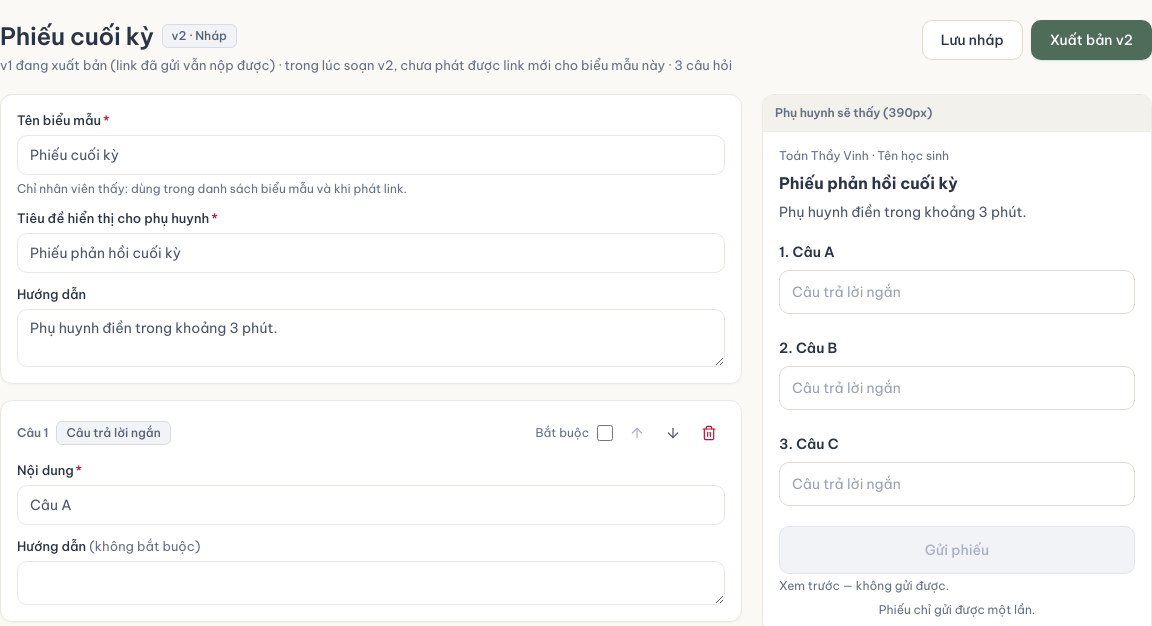
Test: CoachingFormBuilder questions › moves cards up and down and deletes one; the preview and focus follow
Check: the button named "Đưa câu 1 lên" is disabled, box x1=621 y1=417 x2=653 y2=449
Click the button named "Đưa câu 1 xuống": (673, 433) x1=657 y1=417 x2=689 y2=449
(page scrolled)
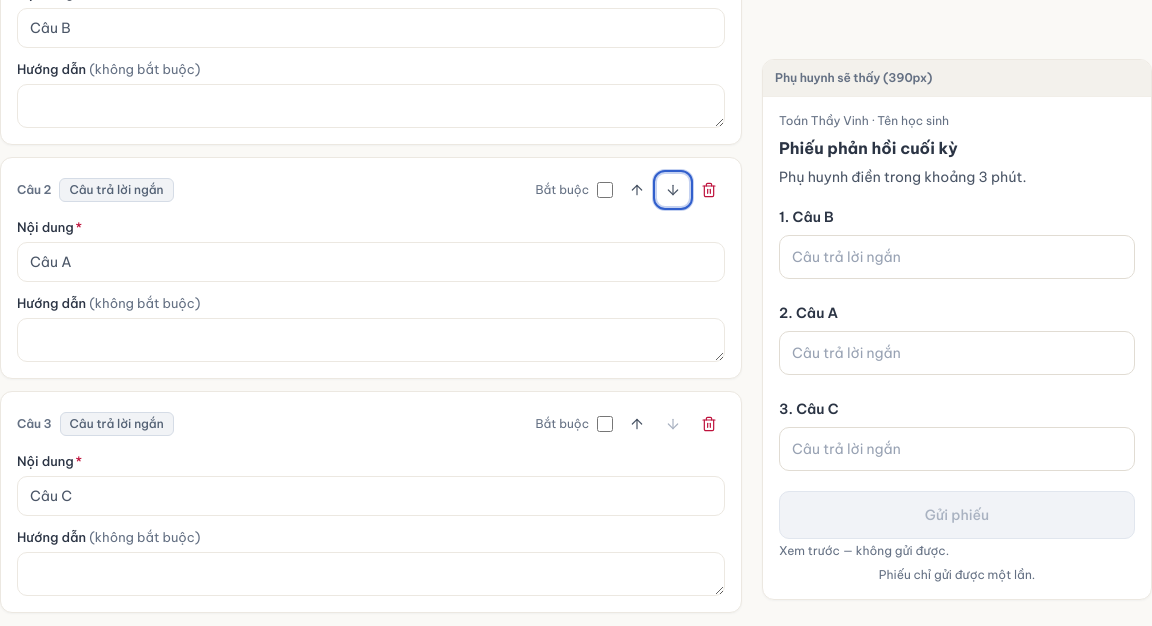
Check: the element "1. Câu B" is shown, box x1=779 y1=207 x2=1135 y2=279
Check: the element "2. Câu A" is shown, box x1=779 y1=303 x2=1135 y2=375
Click the button named "Đưa câu 3 lên": (637, 424) x1=621 y1=408 x2=653 y2=440
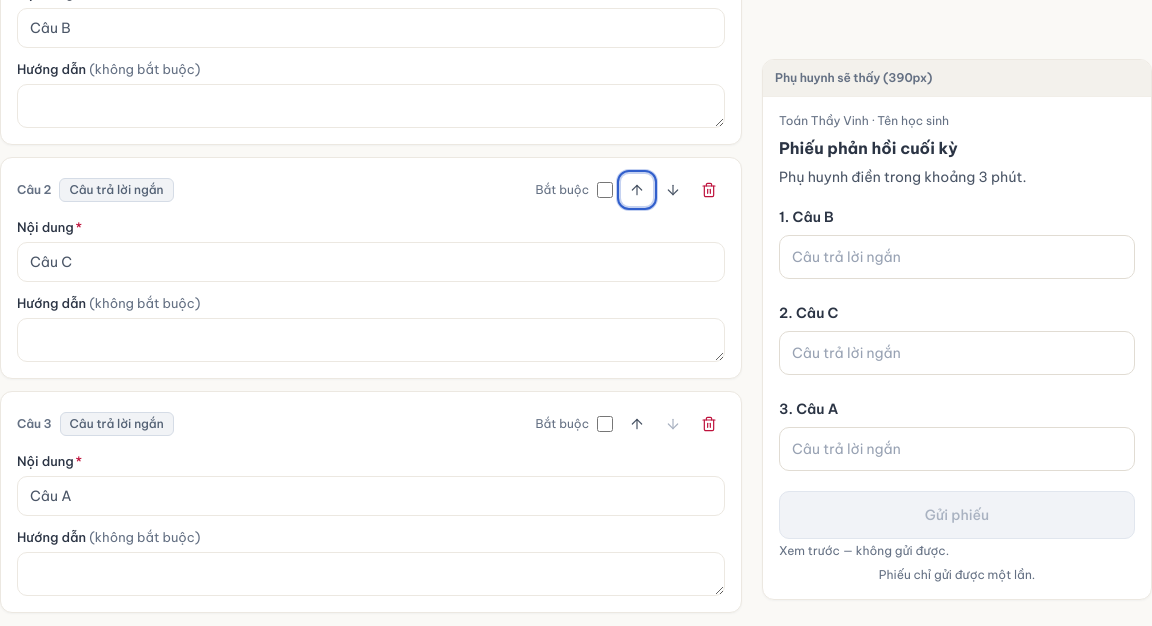
Check: the element "3. Câu A" is shown, box x1=779 y1=399 x2=1135 y2=471
Reaching the last place disables "xuống", so focus moves to the card's "lên".
Click the button named "Đưa câu 2 xuống": (673, 190) x1=657 y1=174 x2=689 y2=206
(page scrolled)
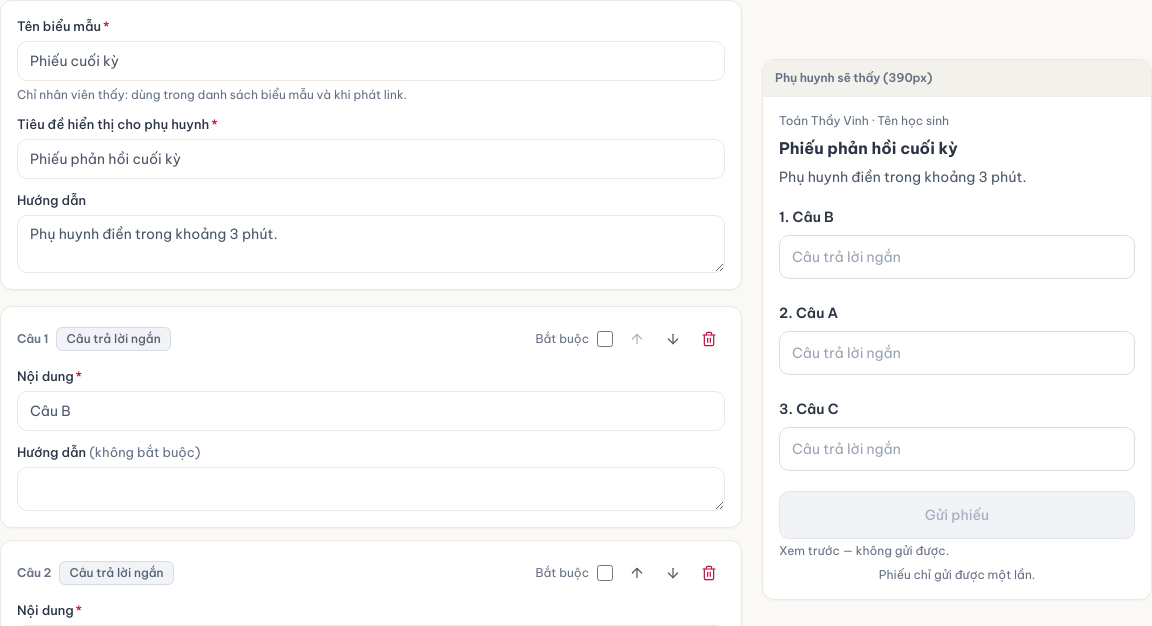
Click the button named "Xóa câu 1": (709, 339) x1=693 y1=323 x2=725 y2=355
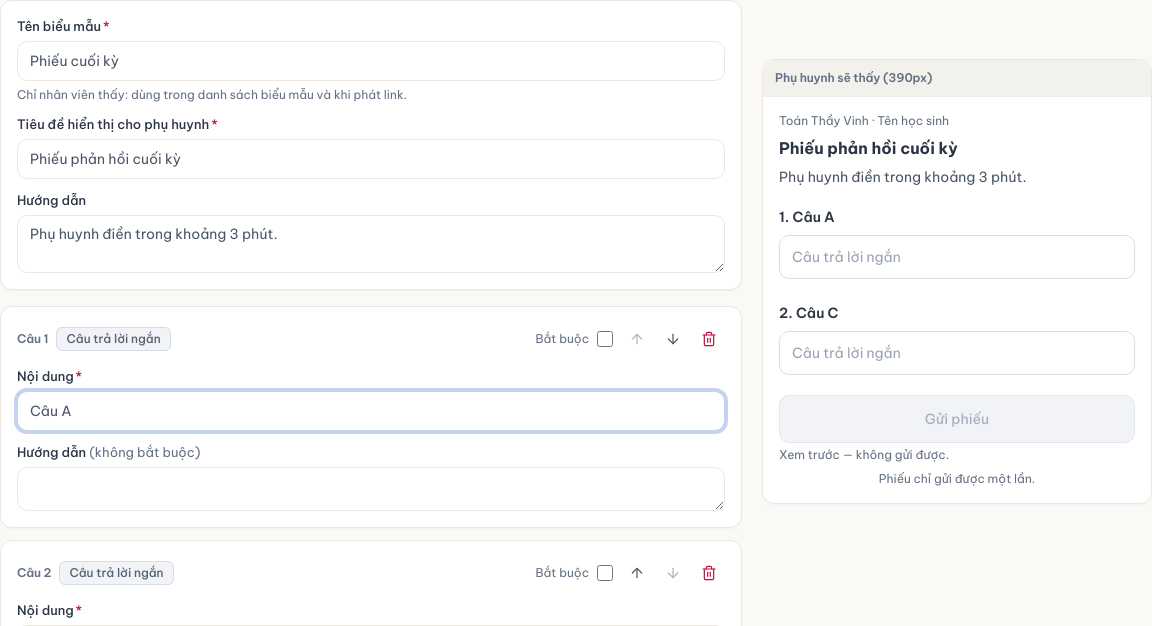
Check: the element "1. Câu A" is shown, box x1=779 y1=207 x2=1135 y2=279
Check: the element "2. Câu C" is shown, box x1=779 y1=303 x2=1135 y2=375
Check: the text "Câu B" is gone
Click the button named "Xóa câu 2": (709, 573) x1=693 y1=557 x2=725 y2=589
(page scrolled)
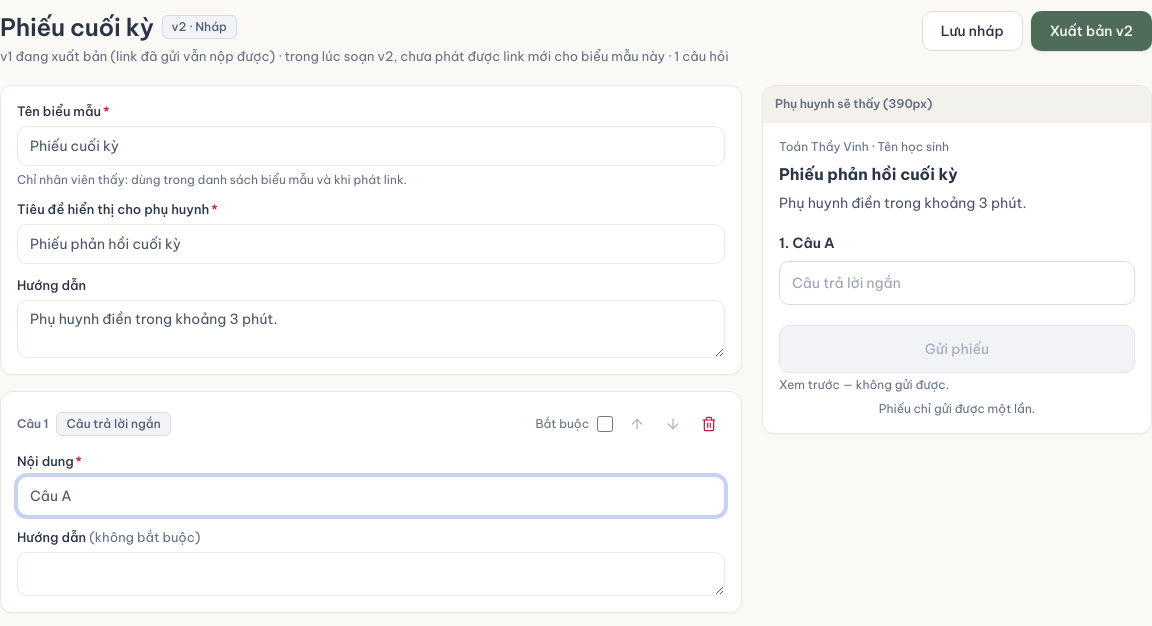
Click the button named "Xóa câu 1": (709, 424) x1=693 y1=408 x2=725 y2=440
(page scrolled)
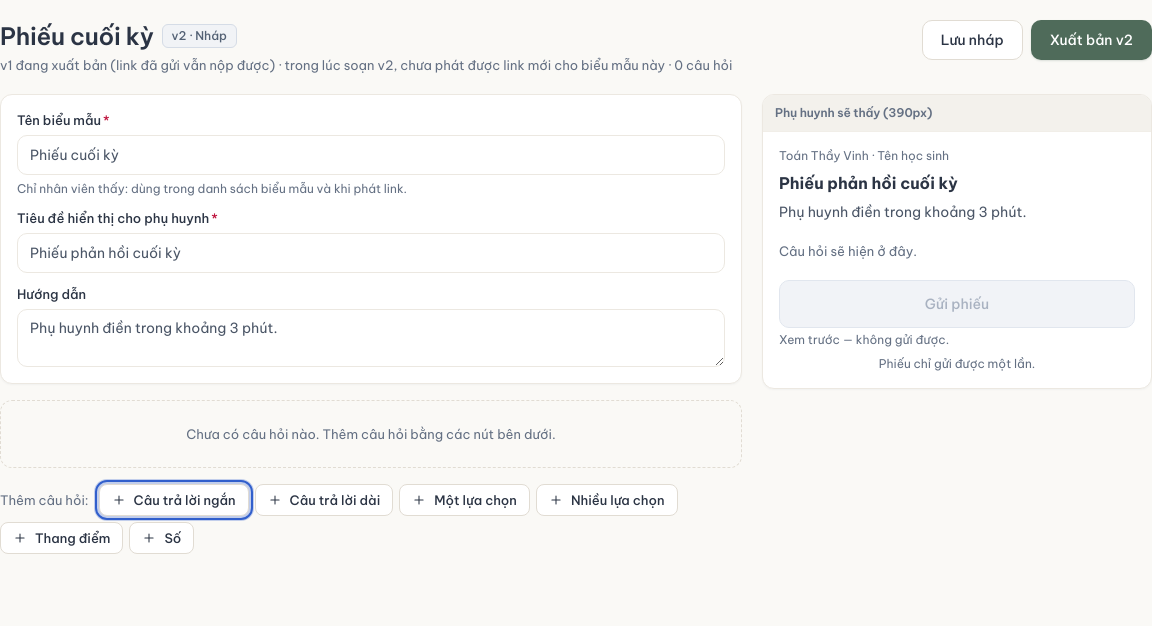
Check: no headings "Câu 1" are shown
Check: the text "Câu hỏi sẽ hiện ở đây." is shown, box x1=779 y1=243 x2=917 y2=259
